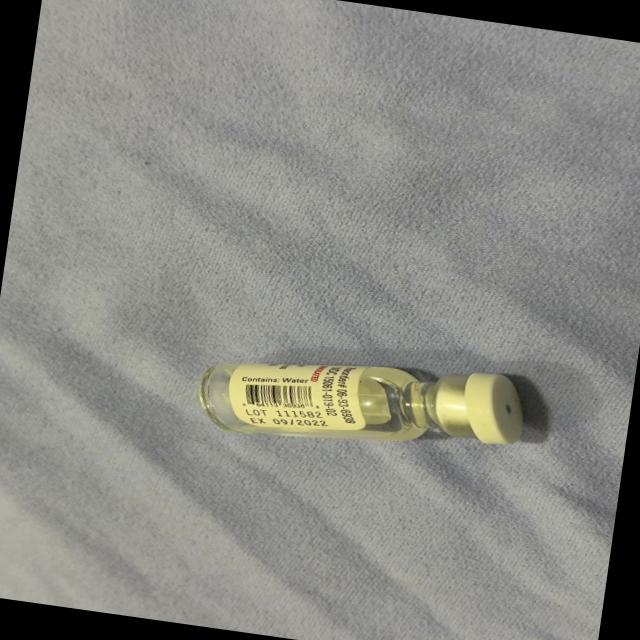fentanl_citrat: (198, 334, 524, 469)
